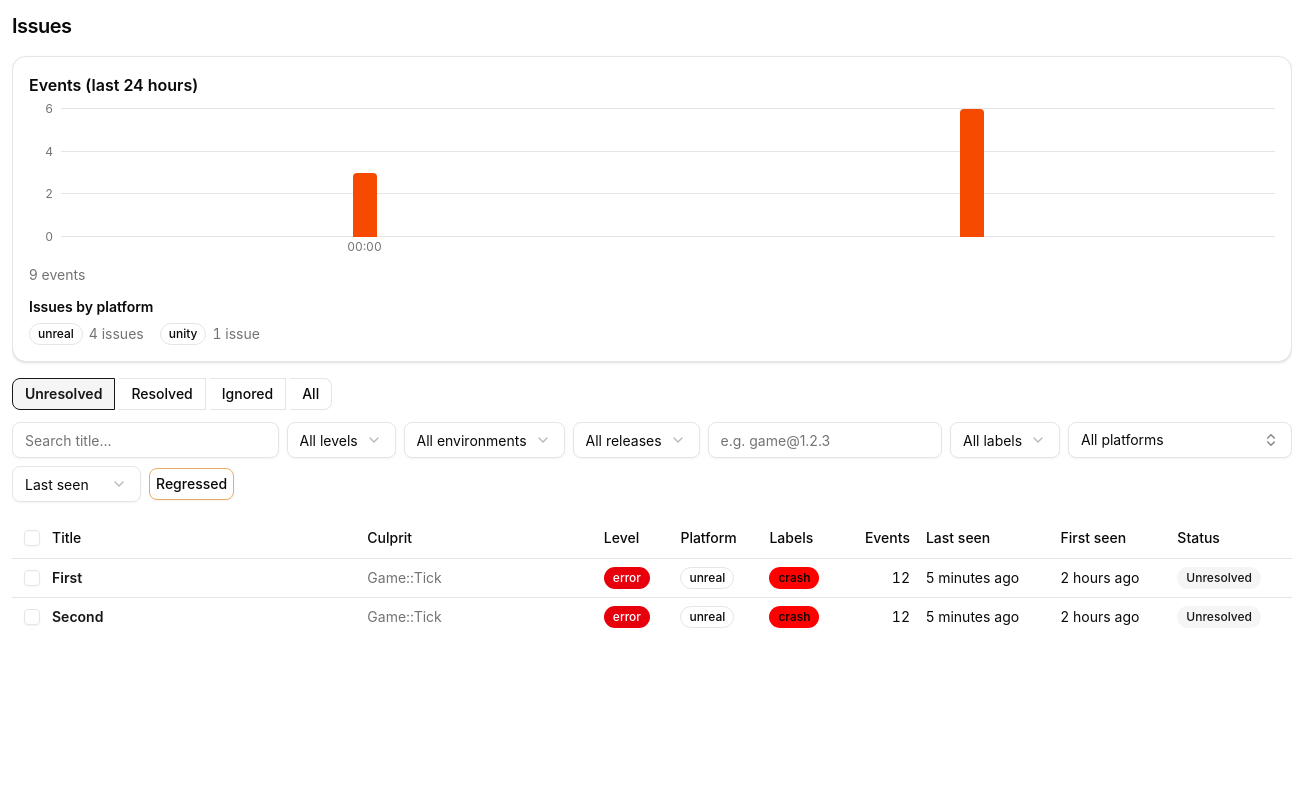
Test: IssuesPage › selects and clears every loaded row with the header checkbox
Expected: the link "First" is shown, [52, 568, 82, 586]
Click the checkbox named "Select all" at [32, 538], box [24, 530, 40, 546]
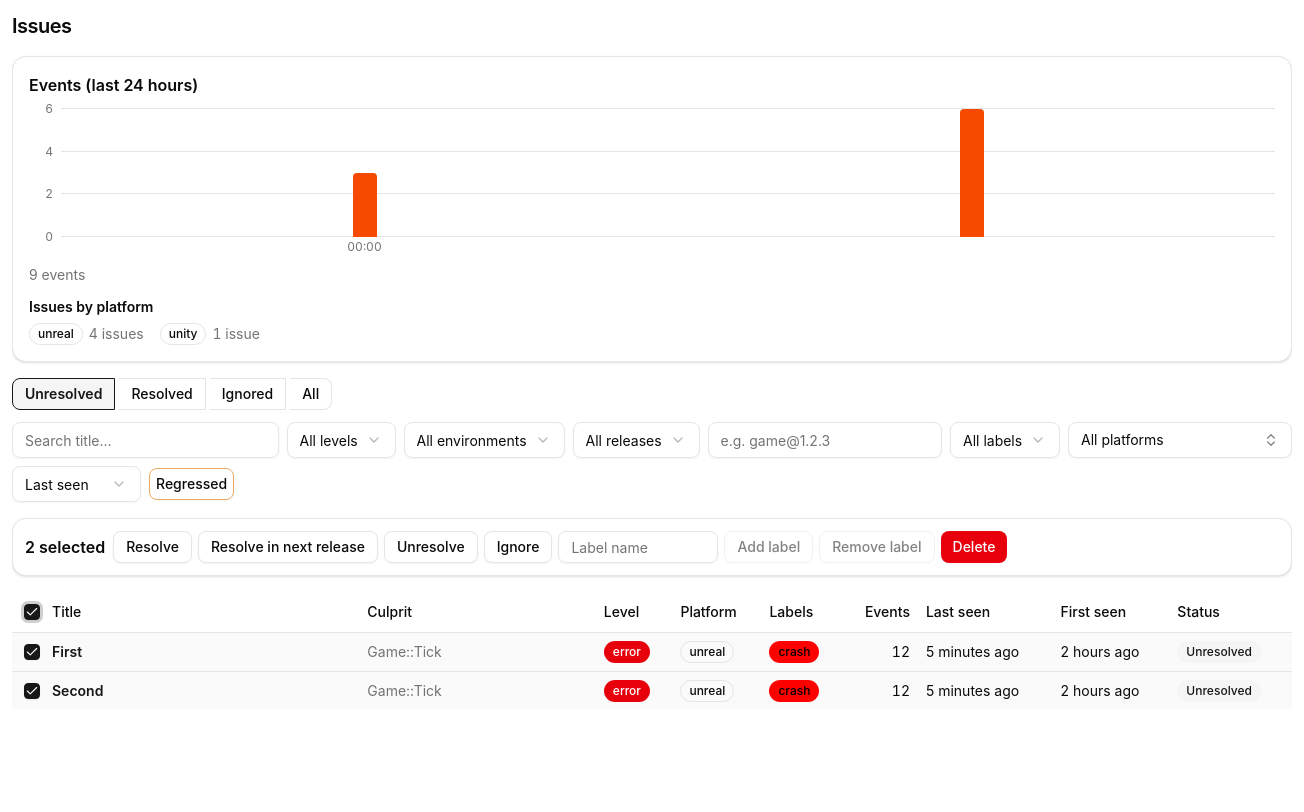
Expected: the checkbox named "Select issue 1" is checked, [24, 644, 40, 660]
Expected: the checkbox named "Select issue 2" is checked, [24, 682, 40, 698]
Expected: the text "2 selected" is shown, [25, 535, 105, 559]
Click the checkbox named "Select all" at [32, 612], box [24, 604, 40, 620]
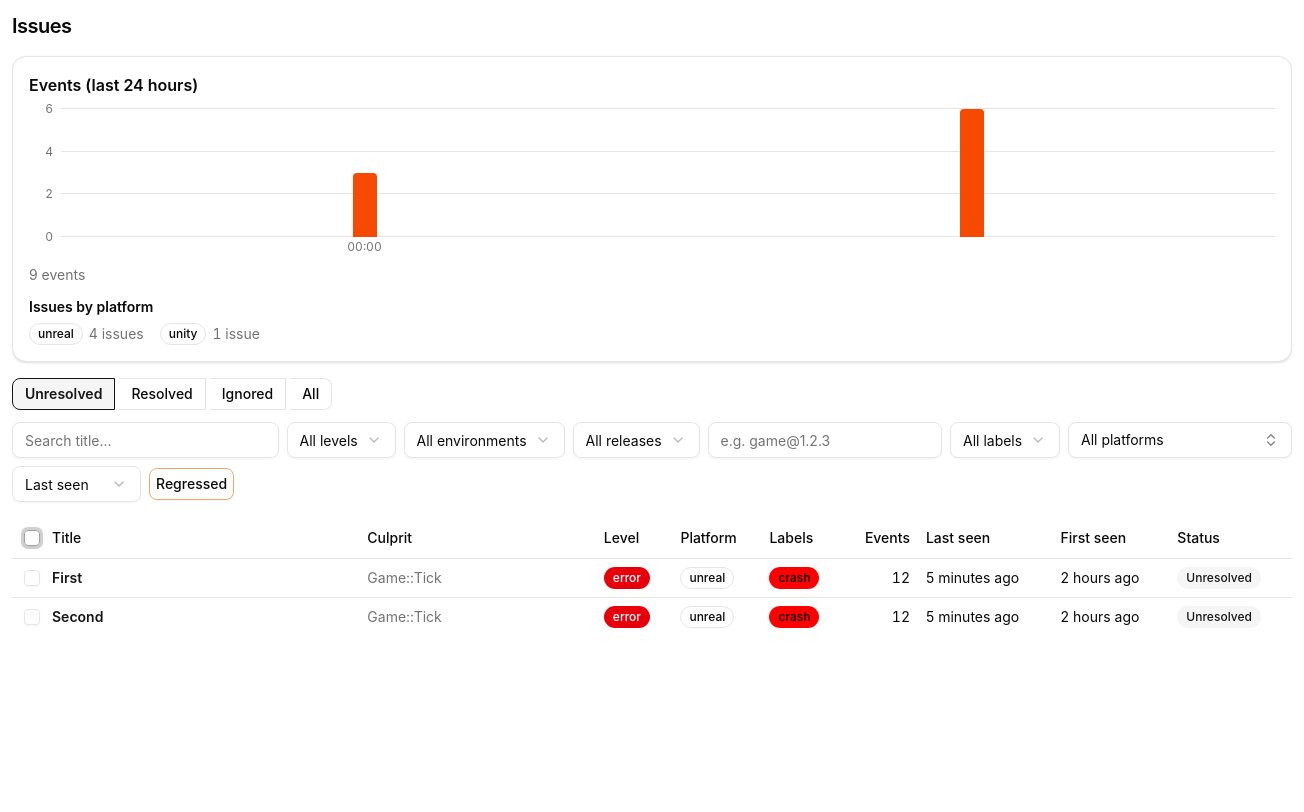
Expected: the checkbox named "Select issue 1" is not checked, [24, 570, 40, 586]
Expected: the text "2 selected" is gone
